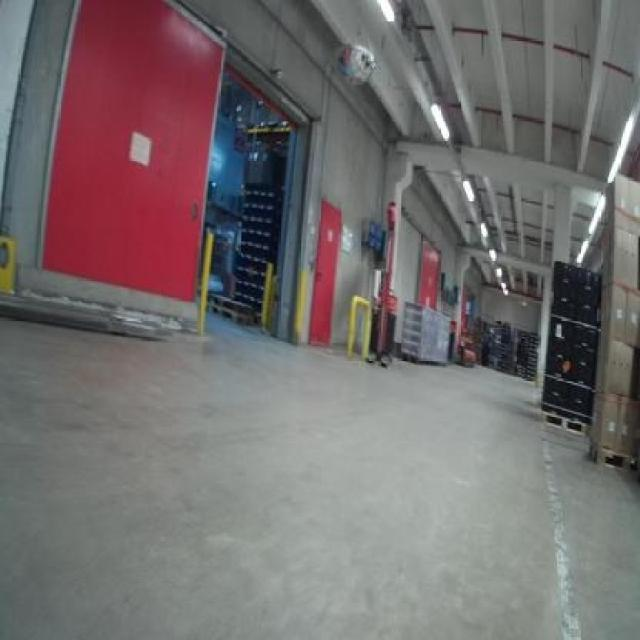floor: (0, 315, 637, 637)
pallets: (540, 260, 598, 428), (398, 300, 448, 362)
